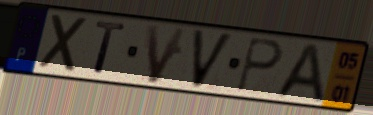A: (271, 41, 327, 106)
P: (234, 35, 285, 94)
T: (92, 19, 129, 78)
V: (190, 27, 236, 92), (144, 23, 190, 86)
X: (37, 11, 92, 75)
